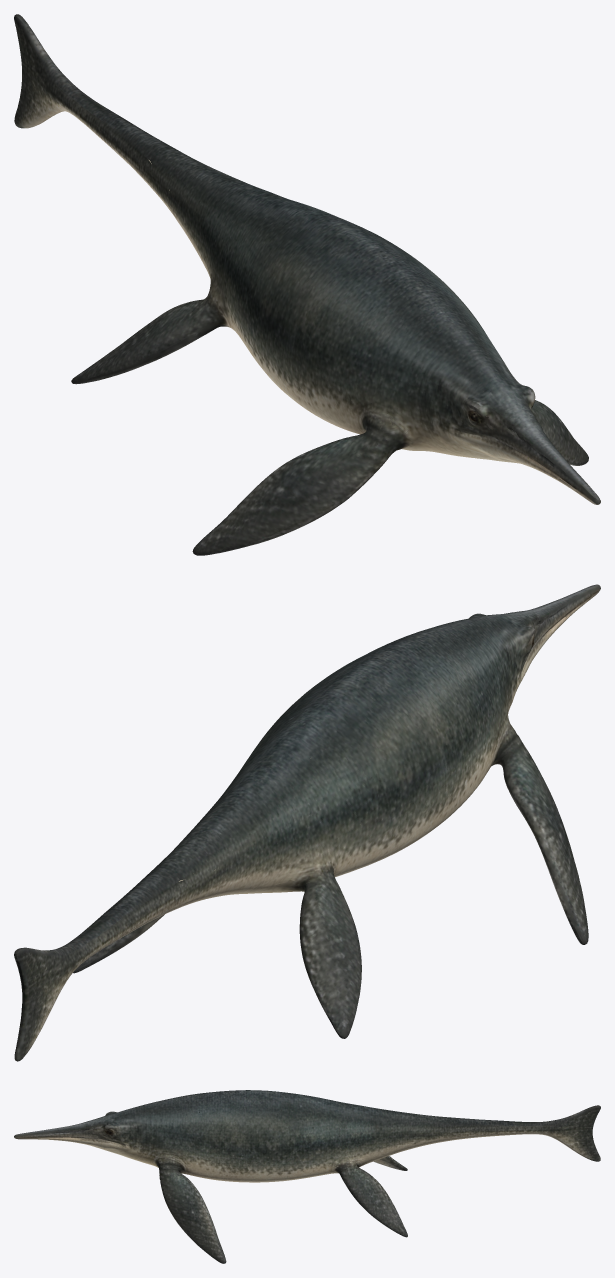
The picture shows the model from 3 angles, top to bottom: view 1: azimuth 30°, elevation 25°; view 2: azimuth 150°, elevation 25°; view 3: azimuth 270°, elevation 25°; orthographic projection. The views are drawn at different scales.
Visible parts, largest first — view 1: Authored orientation; view 2: Authored orientation; view 3: Authored orientation.
Boxes of the visible parts, left/top/right/bottom form: Authored orientation: left=14, top=14, right=600, bottom=555; Authored orientation: left=14, top=584, right=600, bottom=1061; Authored orientation: left=14, top=1090, right=600, bottom=1263.
Size of the model in its own units: 0.3893 by 0.2342 by 1.
1 material, 1 textured.
